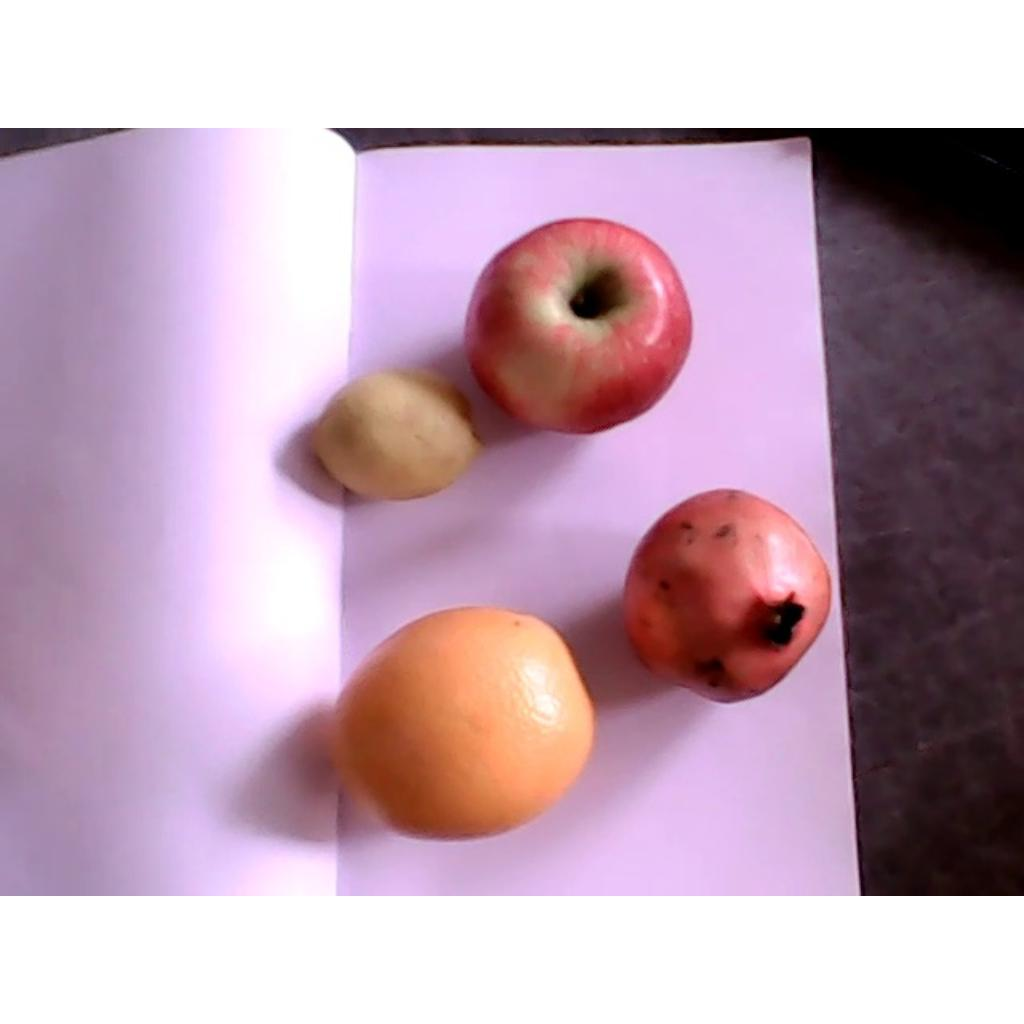apple: (464, 218, 692, 432)
lemon: (306, 368, 483, 499)
orange: (327, 606, 597, 839)
pomegranate: (624, 488, 833, 702)
